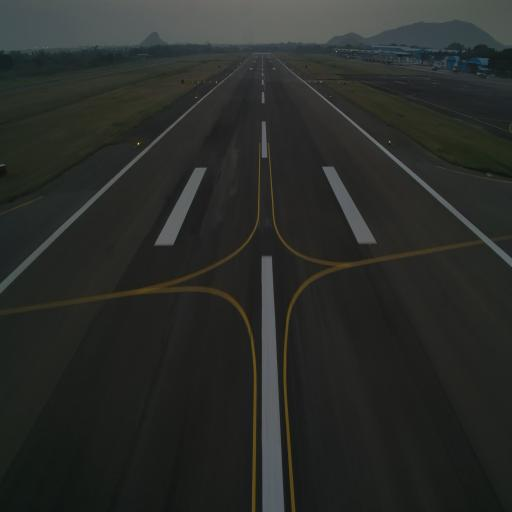on: (387, 137, 391, 145), (137, 140, 141, 147), (194, 94, 198, 99), (329, 94, 331, 99)
